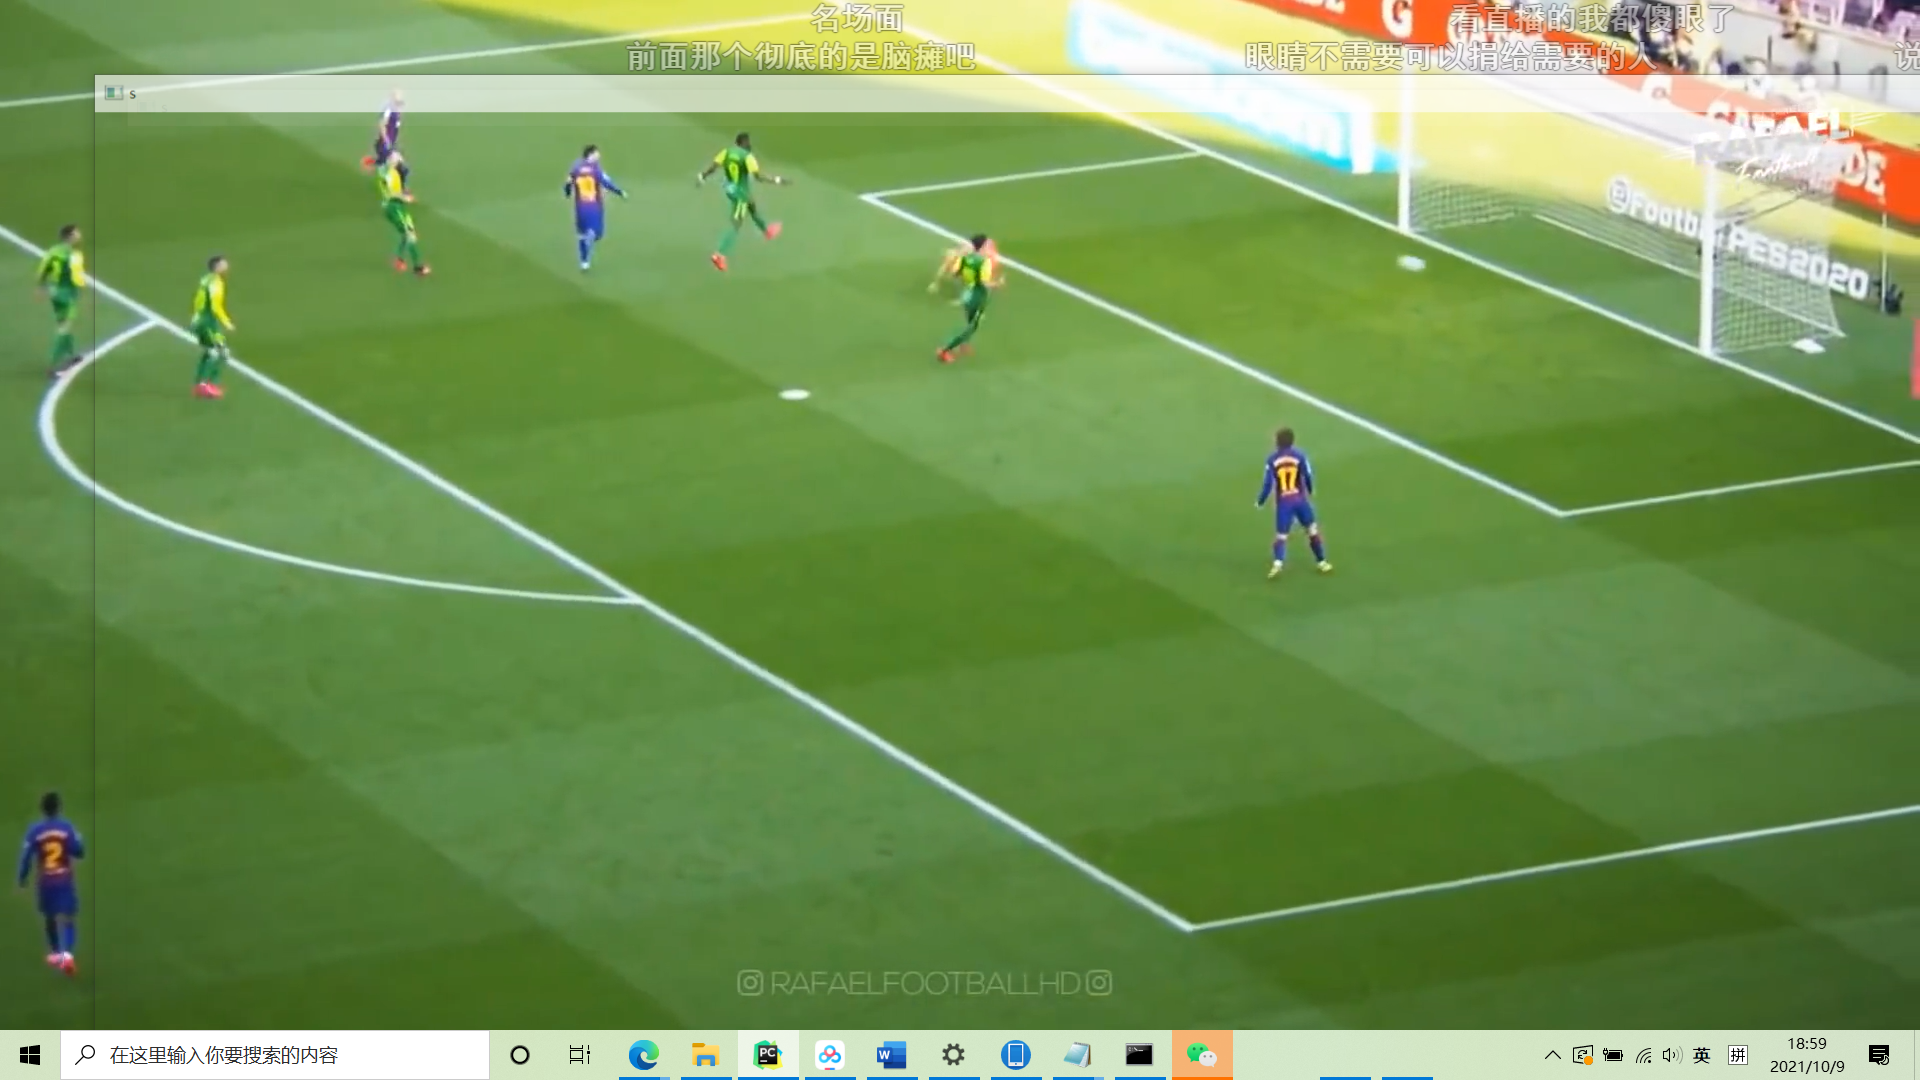ft: (1396, 251, 1427, 277)
